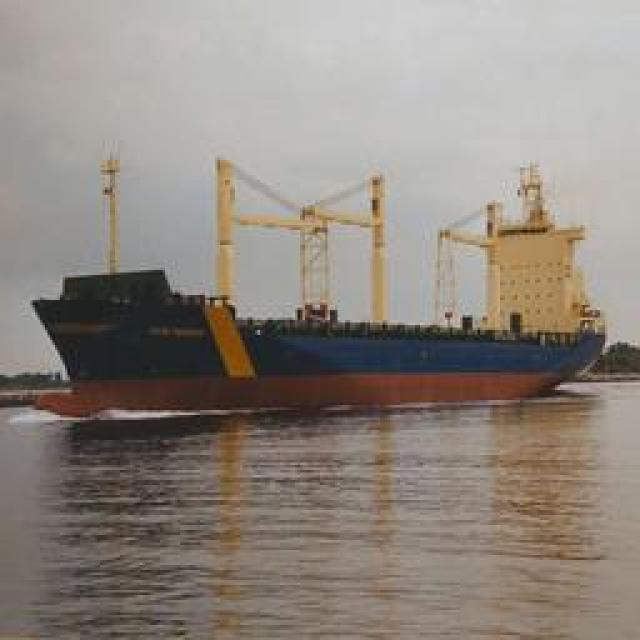CIV_Ship: (49, 142, 604, 406)
